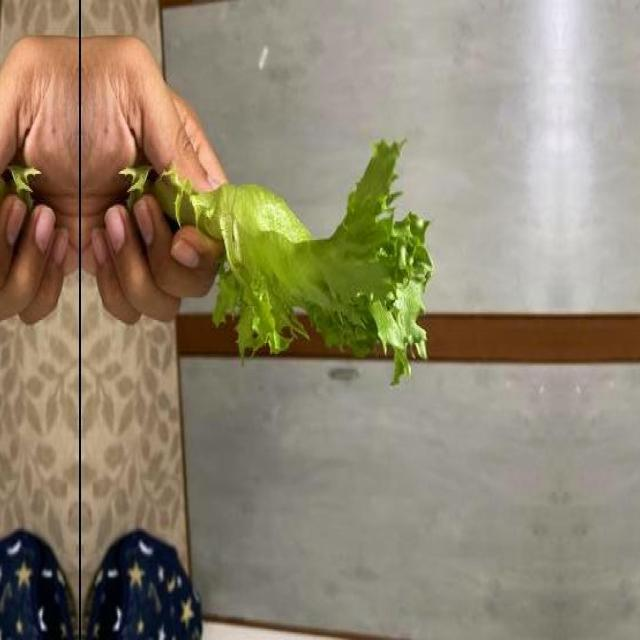healthy: (203, 137, 435, 359)
